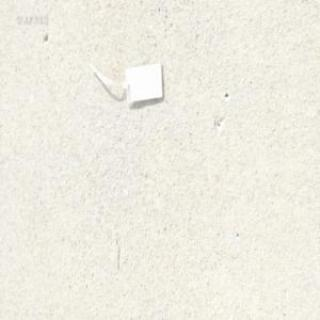LuggageTagtrack_idkeyframe: (88, 57, 164, 106)
